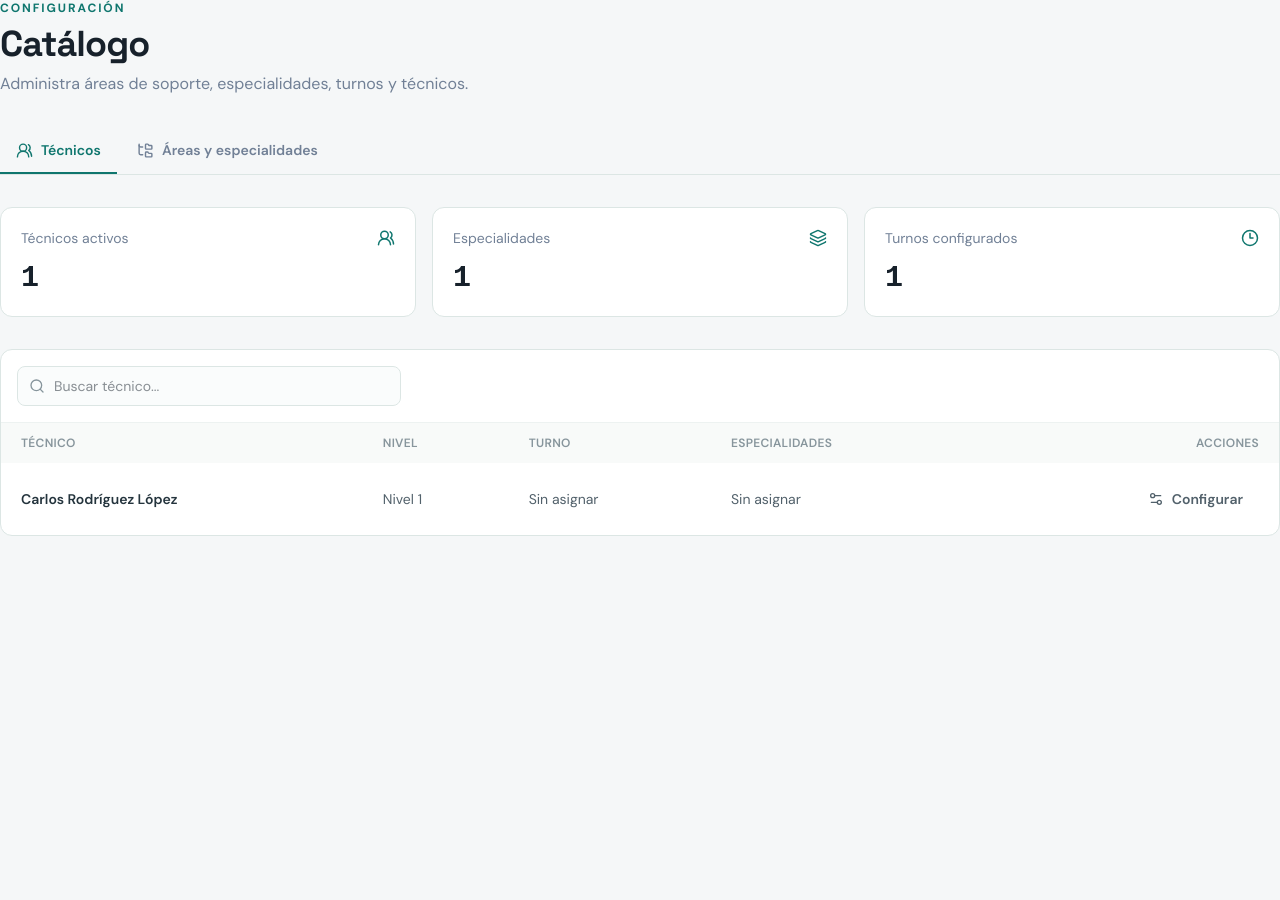
it: CatalogPage con opciones predefinidas › filtra las especialidades según la categoría elegida
Later steps or results of the test are not shown.
Click the button "Áreas y especialidades" at [227, 151], box [121,128,334,174]
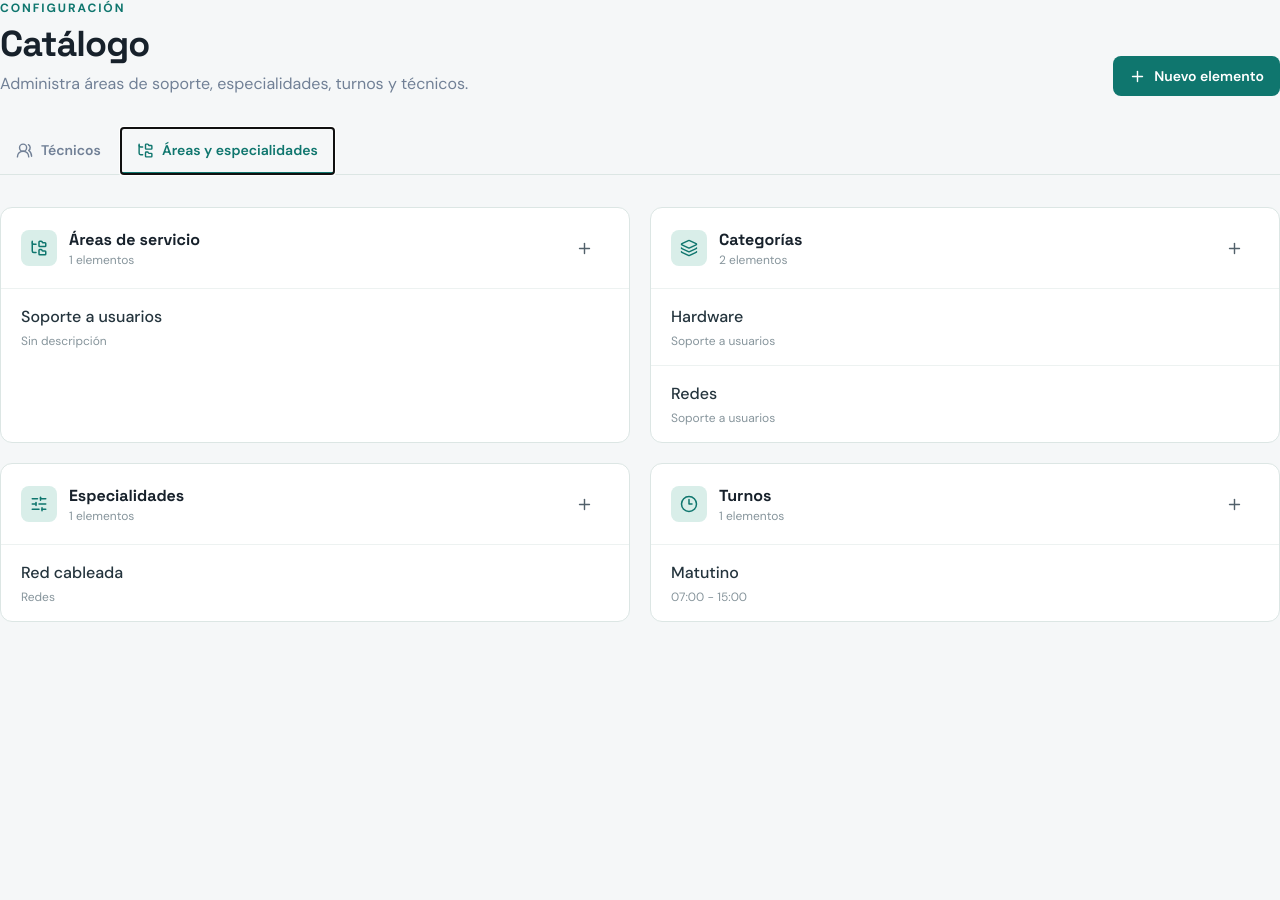
Click the button named "Agregar Especialidades" at [584, 504], box [560,484,609,524]
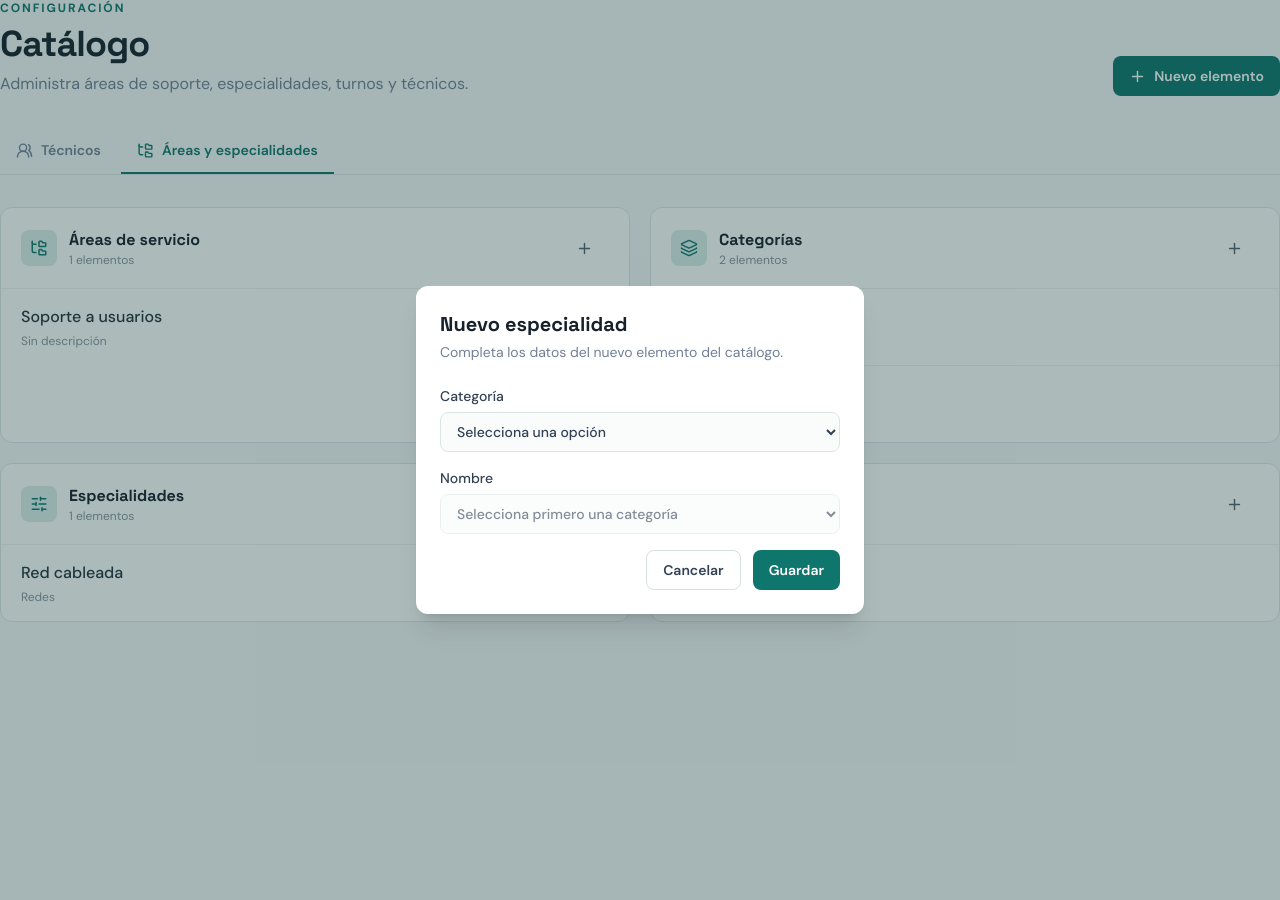
Result: the dropdown labelled "Nombre" is disabled at [440,494,840,534]
